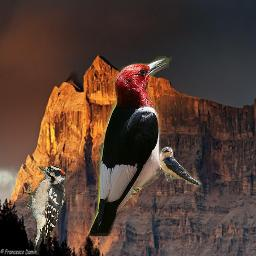Swallow: (159, 145, 203, 187)
Woodpecker: (85, 56, 173, 236), (24, 166, 68, 255)
